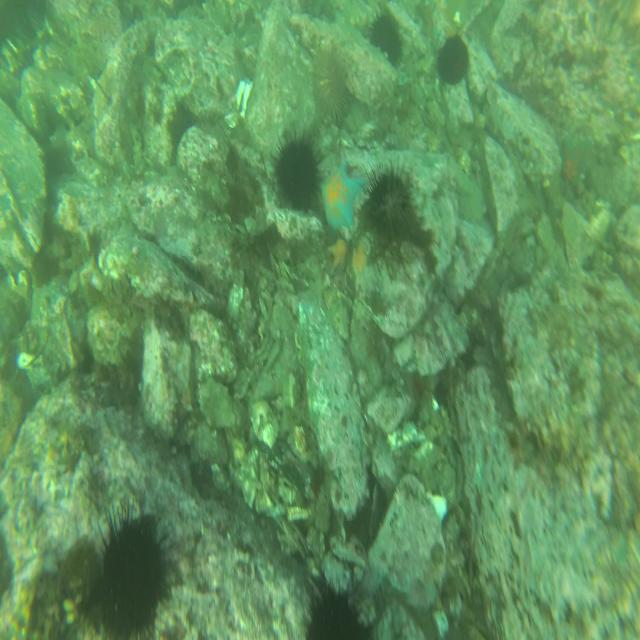echinus: (85, 505, 169, 640), (359, 156, 414, 254), (270, 127, 321, 214), (301, 577, 368, 640), (306, 46, 351, 130), (369, 7, 404, 74), (437, 28, 470, 85)
starfish: (318, 159, 366, 232), (556, 131, 591, 192), (350, 238, 368, 276), (330, 237, 350, 270)
